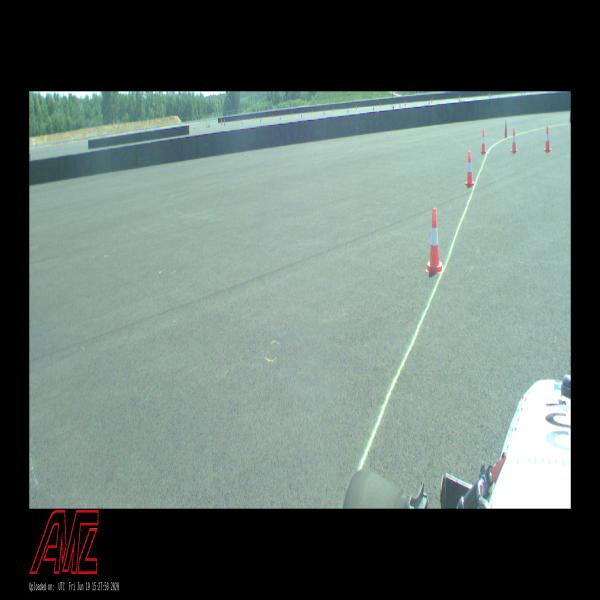orange_cone: (426, 208, 443, 273), (466, 151, 474, 187), (545, 126, 551, 152), (512, 128, 518, 153), (480, 130, 486, 153)
unknown_cone: (505, 121, 508, 138), (569, 110, 571, 123)
